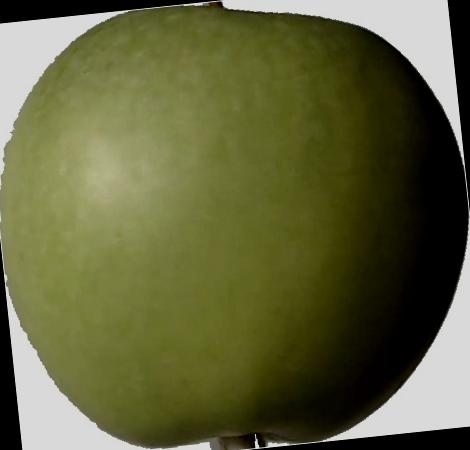Apple Unripe: (0, 0, 470, 443)
